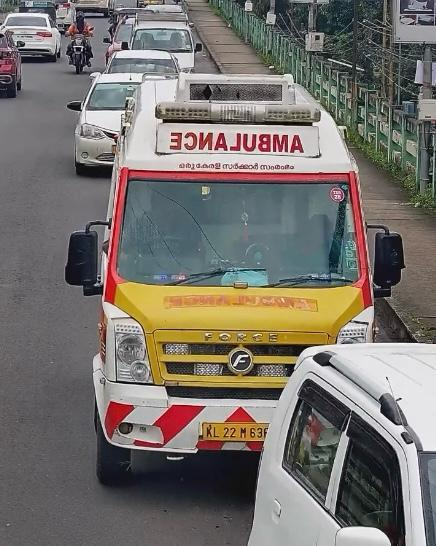ambulance: (65, 67, 404, 477)
